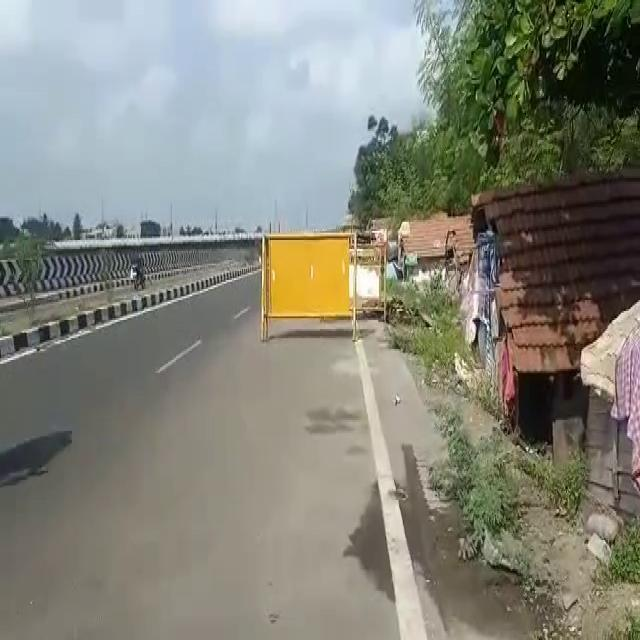fallen_object: (249, 217, 376, 347)
